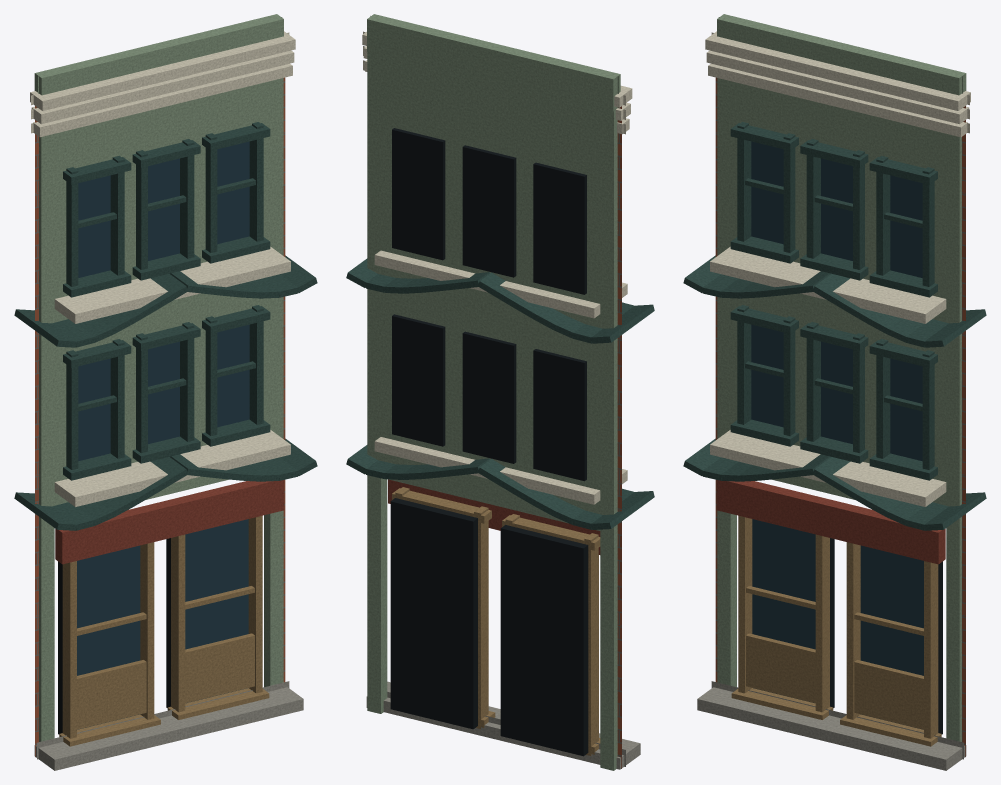
File: CHINA14_lod2.glb
The picture shows the model from 3 angles, left to right: view 1: azimuth 30°, elevation 25°; view 2: azimuth 150°, elevation 25°; view 3: azimuth 330°, elevation 25°; orthographic projection.
Visible parts, largest first — view 1: CHINA14_FRONT_LOD2; view 2: CHINA14_FRONT_LOD2; view 3: CHINA14_FRONT_LOD2.
Boxes of the visible parts, x1=… form: CHINA14_FRONT_LOD2: x1=14, y1=14, x2=317, y2=770; CHINA14_FRONT_LOD2: x1=346, y1=14, x2=654, y2=770; CHINA14_FRONT_LOD2: x1=683, y1=14, x2=986, y2=770.
Bounding box in the file's own units: 3.87 × 9.66 × 1.1.
10 materials, 8 textured.
